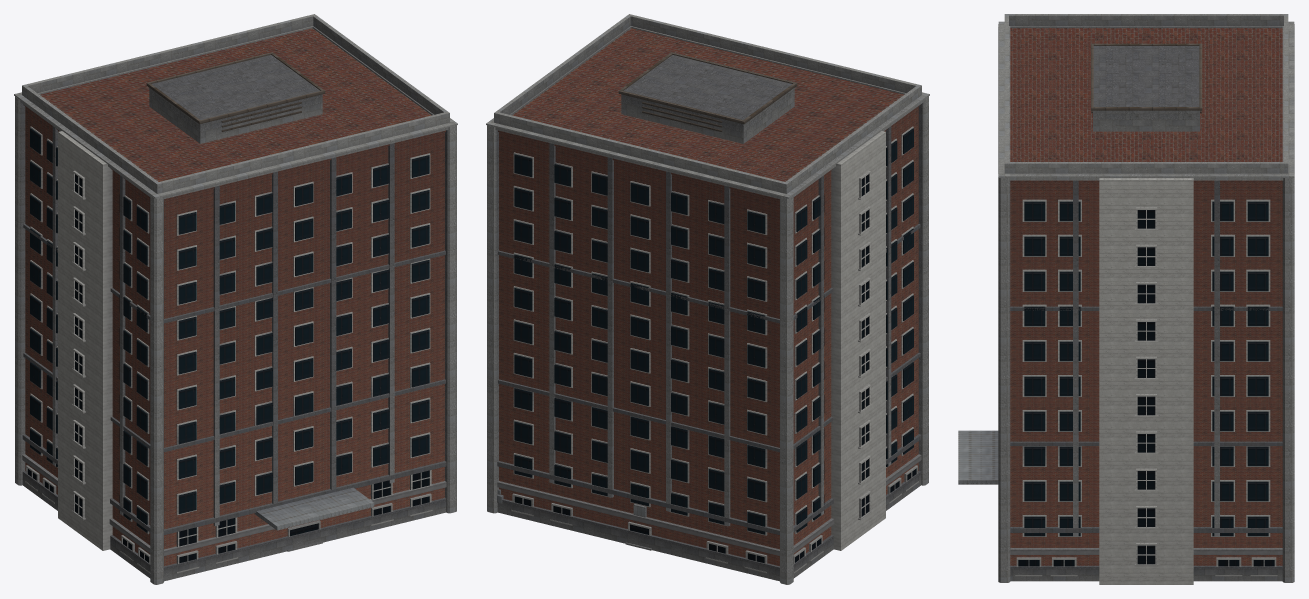
File: university-quarter-dorms_lod0.gltf
3 renders of one model, left to right at view 1: azimuth 30°, elevation 25°; view 2: azimuth 150°, elevation 25°; view 3: azimuth 270°, elevation 25°, orthographic. The views are drawn at different scales.
Visible parts, largest first — view 1: university-quarter-dorms_main, university-quarter-dorms__v4_stone_detail, university-quarter-dorms_fen_07-glass-curtain-blue_1_t, university-quarter-dorms__stair_tower_a, university-quarter-dorms_fen_15-concrete-boardformed_0, university-quarter-dorms__canopy, university-quarter-dorms__parapet, university-quarter-dorms__v4_metal_detail, university-quarter-dorms__trim_band; view 2: university-quarter-dorms_main, university-quarter-dorms__v4_stone_detail, university-quarter-dorms_fen_07-glass-curtain-blue_1_t, university-quarter-dorms__stair_tower_a, university-quarter-dorms_fen_15-concrete-boardformed_0, university-quarter-dorms__trim_band, university-quarter-dorms__parapet, university-quarter-dorms__v4_metal_detail; view 3: university-quarter-dorms_main, university-quarter-dorms__v4_stone_detail, university-quarter-dorms__stair_tower_b, university-quarter-dorms_fen_07-glass-curtain-blue_1_t, university-quarter-dorms__parapet, university-quarter-dorms_fen_15-concrete-boardformed_0, university-quarter-dorms__canopy, university-quarter-dorms__trim_band, university-quarter-dorms__v4_metal_detail.
Part boxes in pixels (x1,y1,x2,y2): university-quarter-dorms_main: [25, 28, 444, 565]; university-quarter-dorms__v4_stone_detail: [14, 14, 457, 584]; university-quarter-dorms_fen_07-glass-curtain-blue_1_t: [27, 128, 429, 563]; university-quarter-dorms__stair_tower_a: [58, 131, 112, 550]; university-quarter-dorms_fen_15-concrete-boardformed_0: [25, 126, 432, 573]; university-quarter-dorms__canopy: [254, 487, 374, 530]; university-quarter-dorms__parapet: [24, 28, 445, 200]; university-quarter-dorms__v4_metal_detail: [146, 52, 325, 131]; university-quarter-dorms__trim_band: [22, 454, 446, 555]; university-quarter-dorms_main: [499, 28, 918, 565]; university-quarter-dorms__v4_stone_detail: [486, 14, 929, 584]; university-quarter-dorms_fen_07-glass-curtain-blue_1_t: [514, 128, 916, 563]; university-quarter-dorms__stair_tower_a: [831, 131, 885, 550]; university-quarter-dorms_fen_15-concrete-boardformed_0: [511, 126, 918, 573]; university-quarter-dorms__trim_band: [497, 454, 921, 555]; university-quarter-dorms__parapet: [498, 29, 919, 200]; university-quarter-dorms__v4_metal_detail: [618, 52, 797, 131]; university-quarter-dorms_main: [1010, 28, 1282, 565]; university-quarter-dorms__v4_stone_detail: [998, 14, 1294, 582]; university-quarter-dorms__stair_tower_b: [1099, 178, 1193, 584]; university-quarter-dorms_fen_07-glass-curtain-blue_1_t: [1018, 201, 1274, 566]; university-quarter-dorms__parapet: [1010, 28, 1282, 182]; university-quarter-dorms_fen_15-concrete-boardformed_0: [1015, 199, 1277, 576]; university-quarter-dorms__canopy: [958, 430, 998, 484]; university-quarter-dorms__trim_band: [1010, 548, 1282, 554]; university-quarter-dorms__v4_metal_detail: [1091, 43, 1202, 113].
Bounding box in the file's own units: 32.55 × 40.3 × 28.59.
